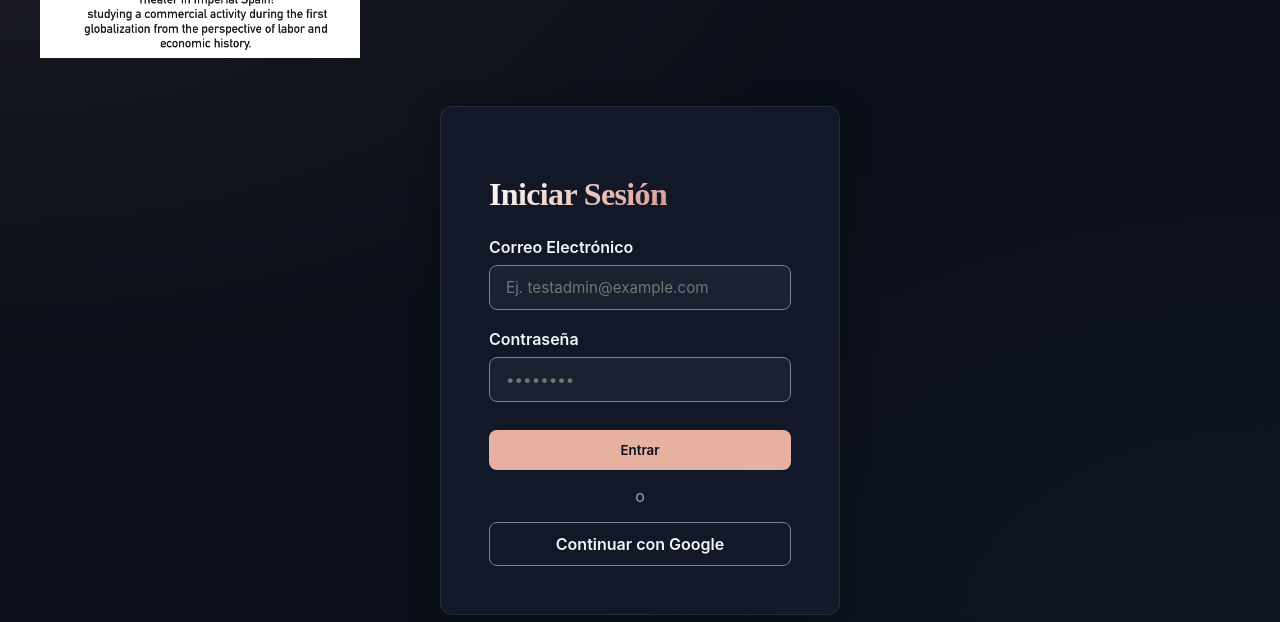
Test case: Login con Google › rechazo no autorizado: un alert, registro solo con el código y sin navegar
(page scrolled)
Click the button "Continuar con Google": [640, 544] box [489, 522, 791, 566]
(page scrolled)
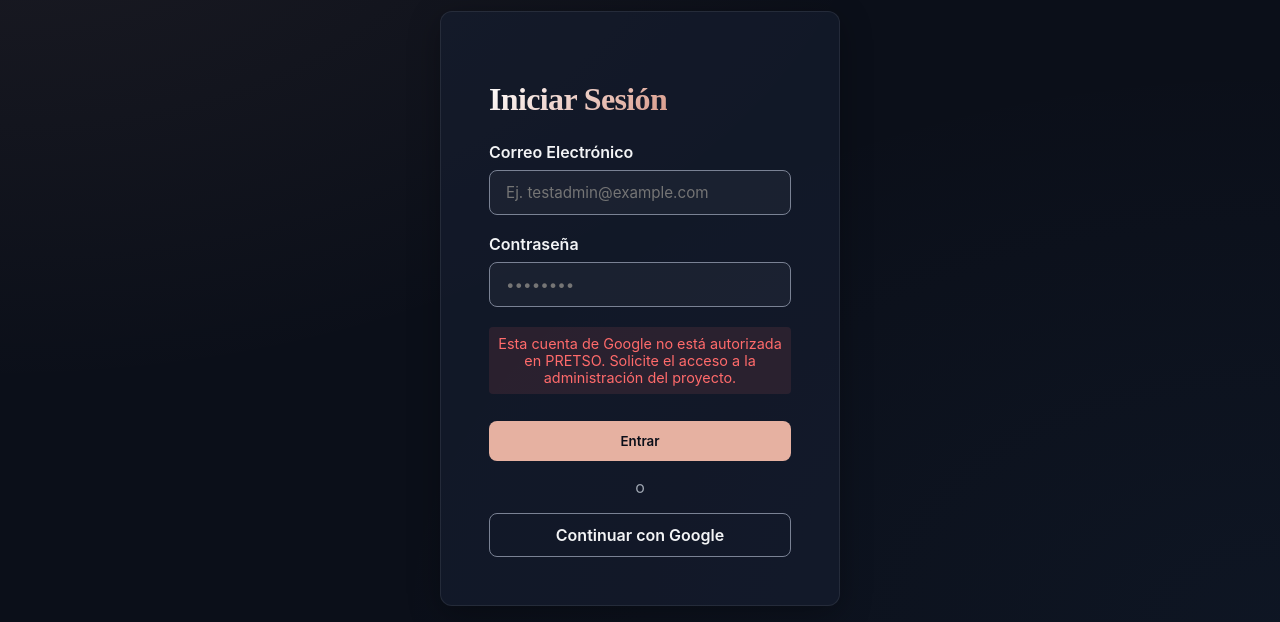
Expected: the button "Continuar con Google" is enabled, [489, 513, 791, 557]
Expected: the number of messages is 1, [489, 327, 791, 394]
Expected: the message shows "Esta cuenta de Google no está autorizada en PRETSO. Solicite el acceso a la administración del proyecto.", [498, 335, 782, 386]
